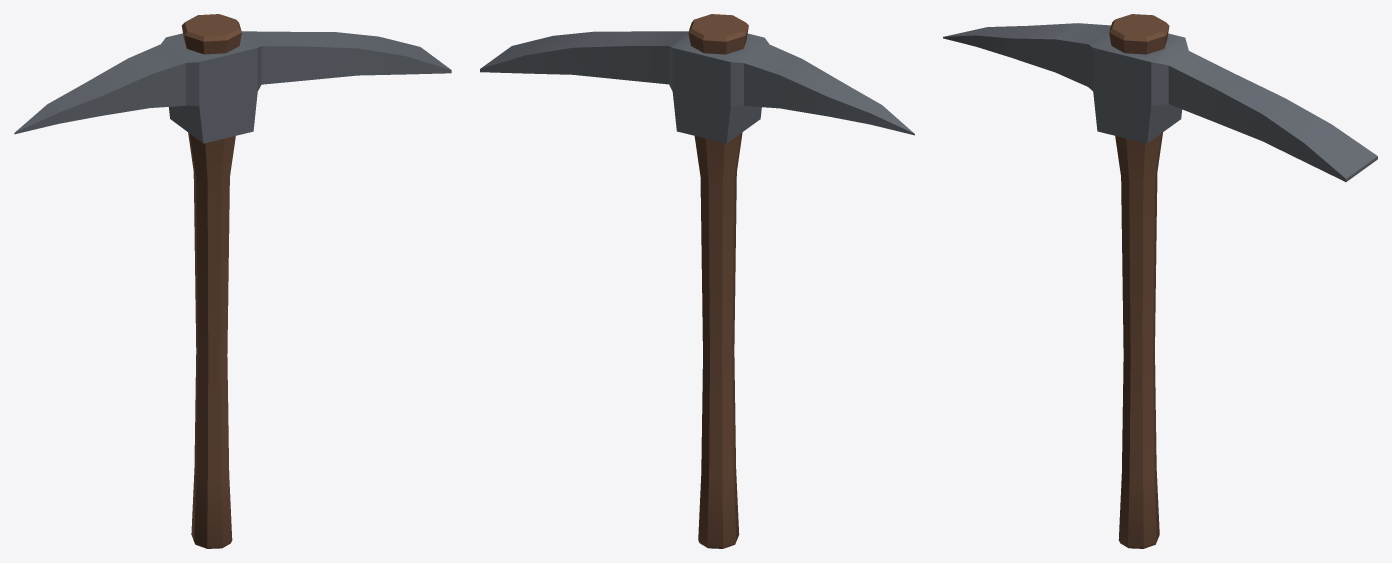
The model's file is Pickaxe Complete 1.fbx.
3 renders of one model, left to right at view 1: azimuth 30°, elevation 25°; view 2: azimuth 150°, elevation 25°; view 3: azimuth 330°, elevation 25°, orthographic.
Visible parts, largest first — view 1: Pickaxe.Complete; view 2: Pickaxe.Complete; view 3: Pickaxe.Complete.
Part boxes in pixels (x1,y1,x2,y2): Pickaxe.Complete: (14, 14, 451, 548); Pickaxe.Complete: (480, 14, 914, 548); Pickaxe.Complete: (943, 14, 1377, 548).
Bounding box in the file's own units: 488 × 571 × 68.02.
